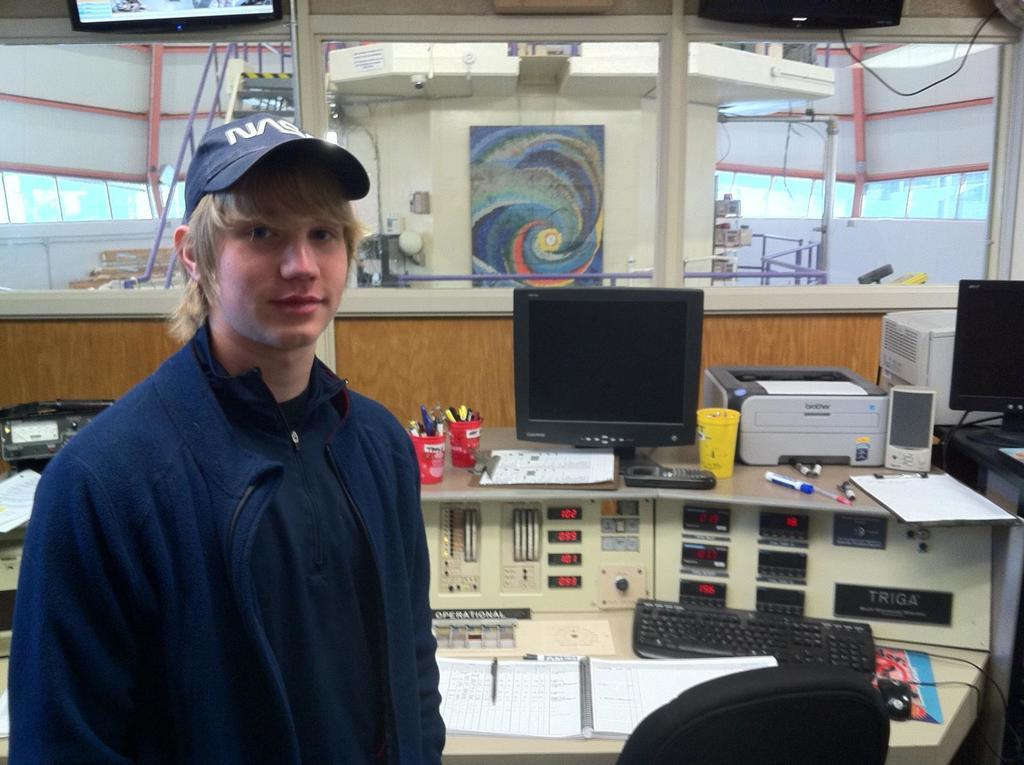Computer-keyboard: (634, 595, 877, 679)
